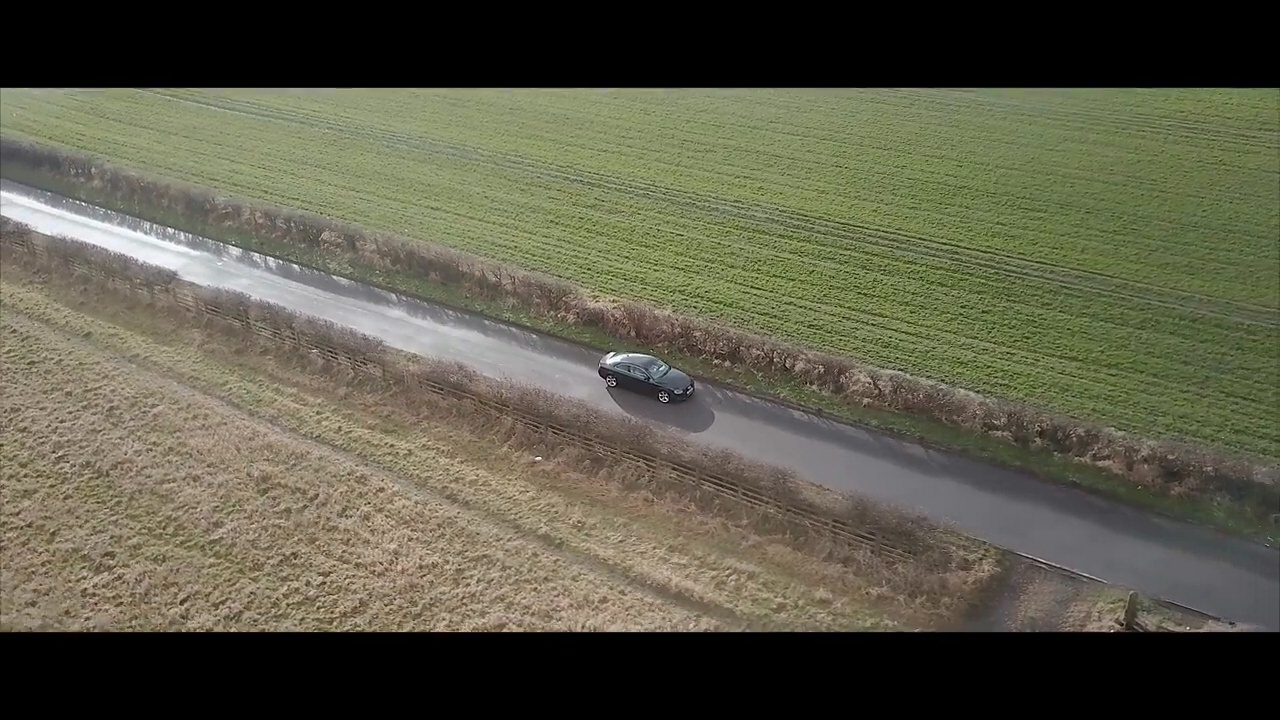araba: (592, 344, 697, 405)
